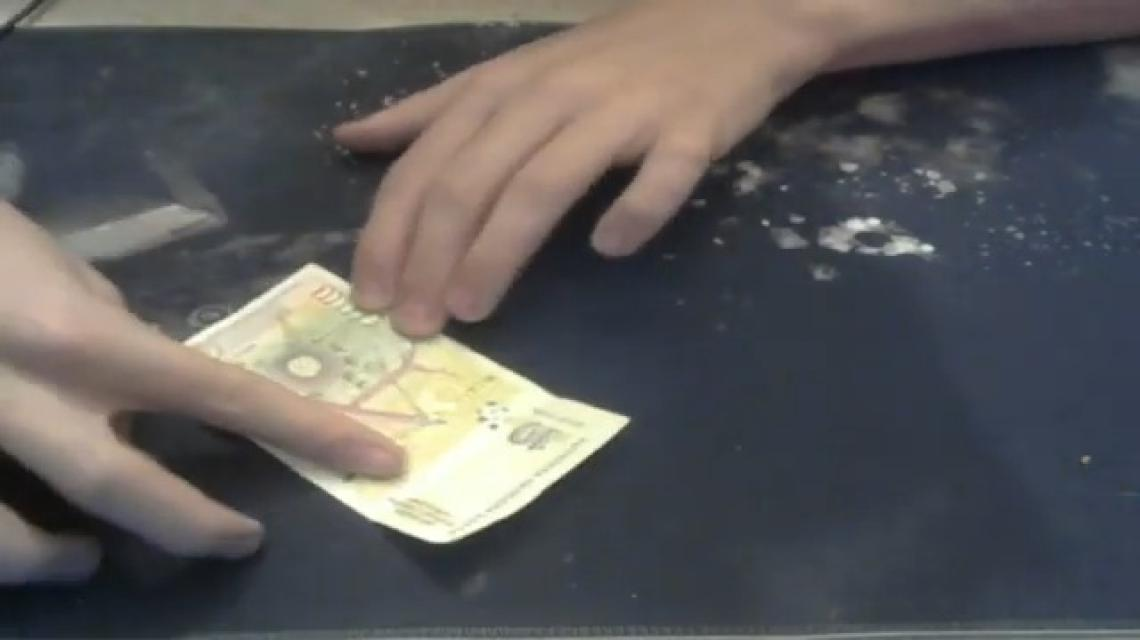10leva: (485, 412, 576, 472)
